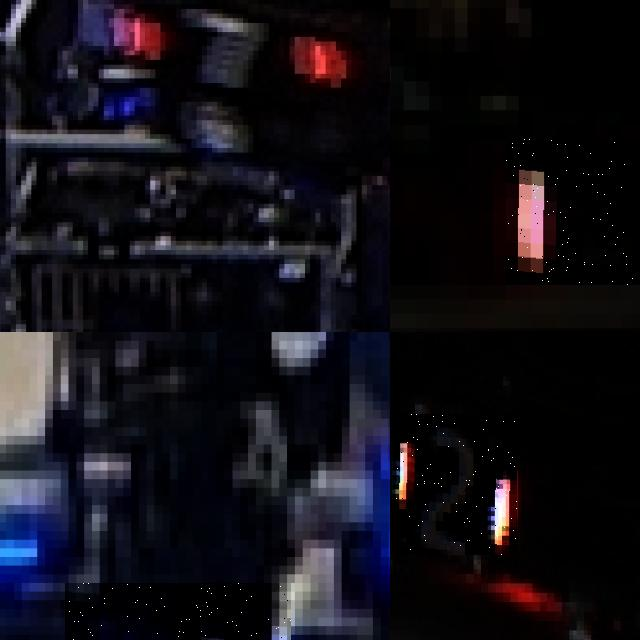B4: (64, 582, 291, 640), (0, 401, 76, 574)
R2: (393, 414, 517, 555)
Rs: (506, 139, 640, 284)
